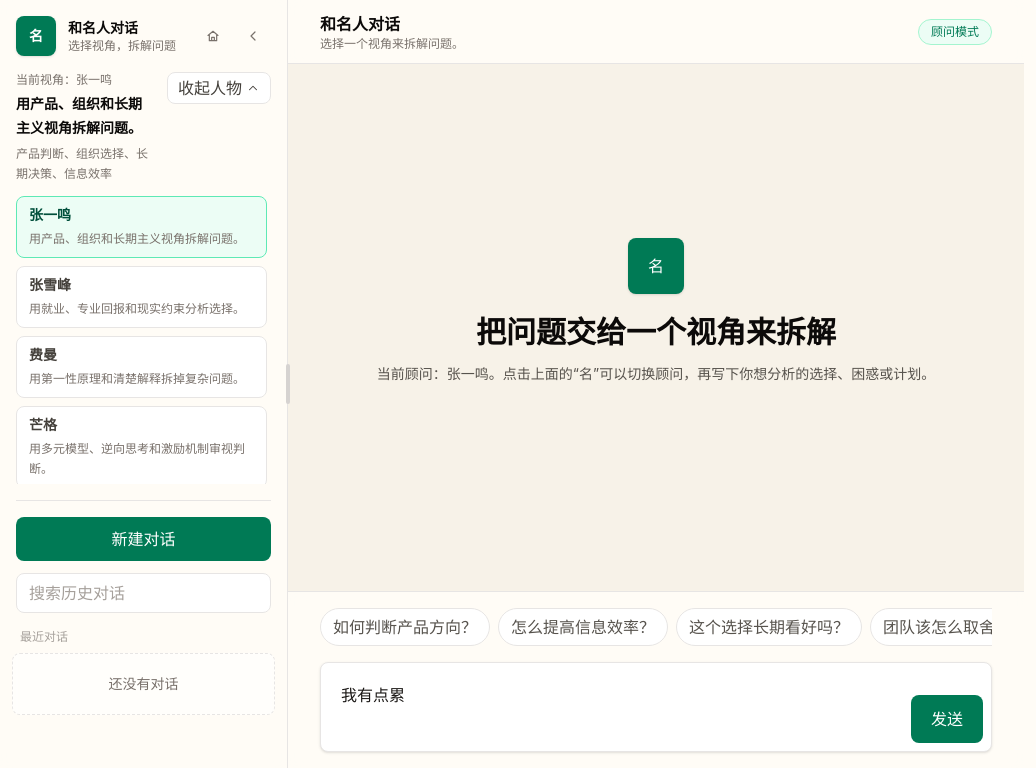
Scenario: ChatApp › shows celebrity quick prompts for the selected advisor
This screenshot has width=1036, height=768.
Click the button "如何判断产品方向？".
click(405, 627)  # box [320,608,490,646]
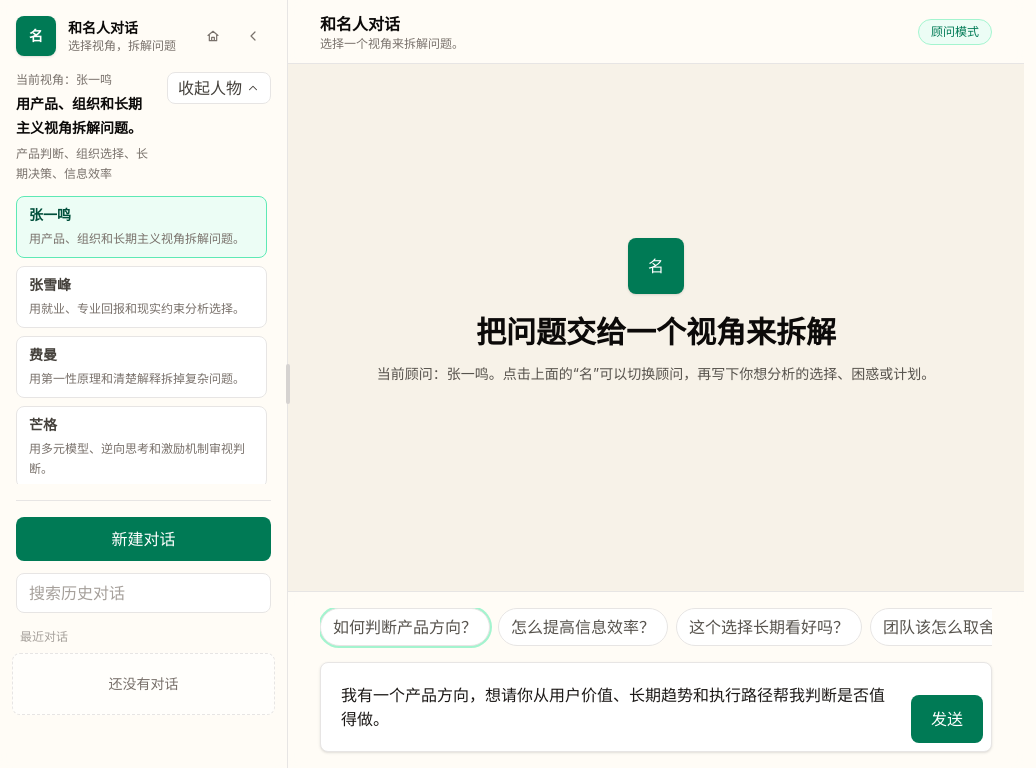
expect the text box named "消息输入" holds "我有一个产品方向，想请你从用户价值、长期趋势和执行路径帮我判断是否值得做。": met, box [329,671,899,743]
